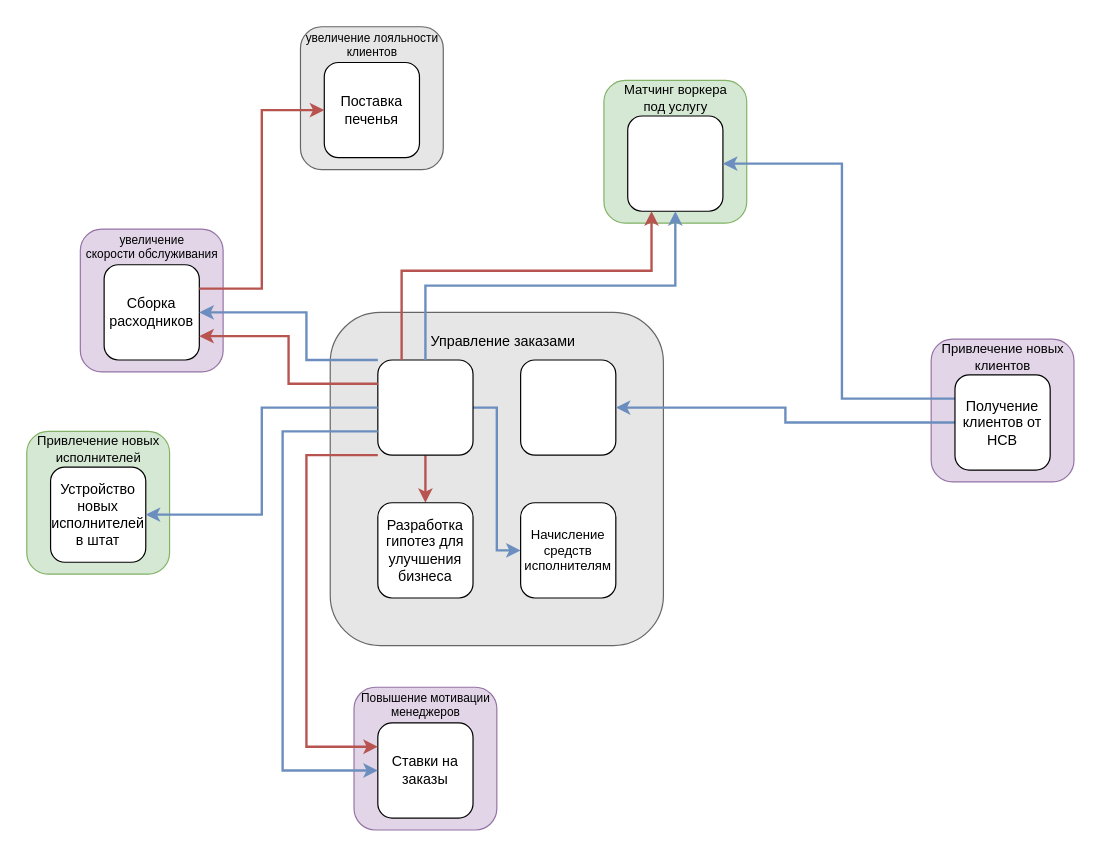
The diagram is 1100 pixels wide and 851 high, and some of its shapes have lost their labels. Here are the shapes that lost their labels. From the top down, the centre of each, then its label:
(x=675, y=163): Алгоритм матчинга
(x=425, y=407): Обработка заказов
(x=567, y=407): Списание средств у пользователей
